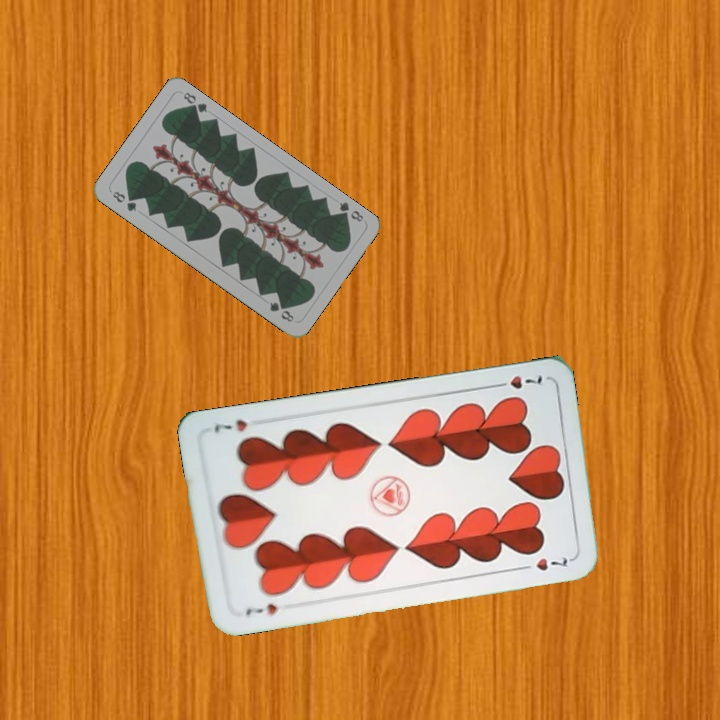G8: (334, 198, 366, 225), (108, 187, 139, 214)
H7: (489, 370, 546, 392), (241, 599, 281, 618)
